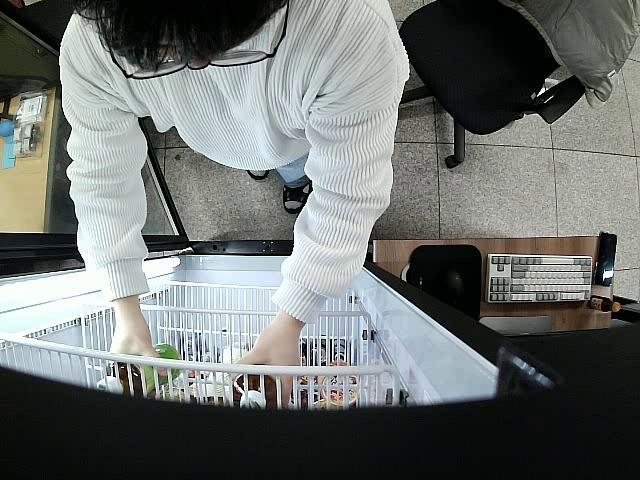19_17cha: (97, 343, 181, 395), (232, 373, 276, 408)
